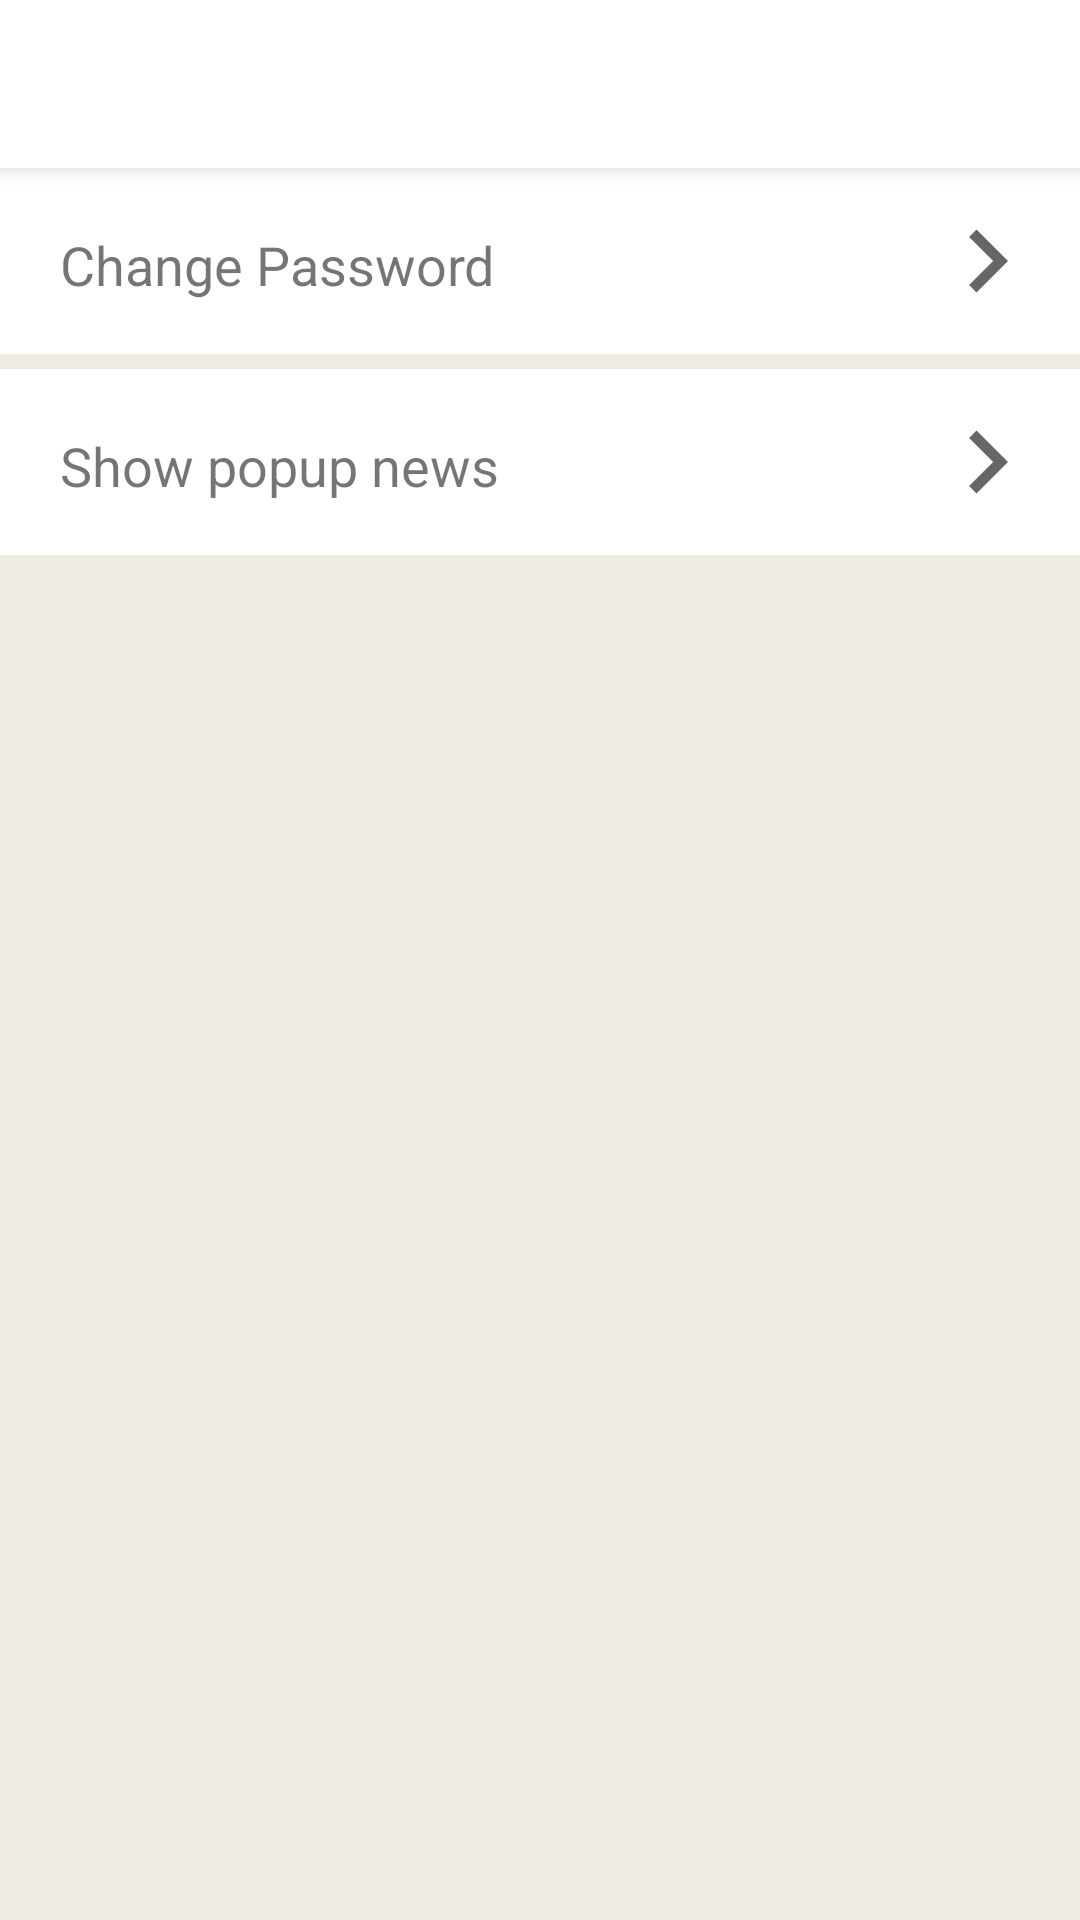

Icons on this 1080×1920 Android screen, each with the point to tap as [x,y]:
keyboard arrow right: [988,261], [988,462]
